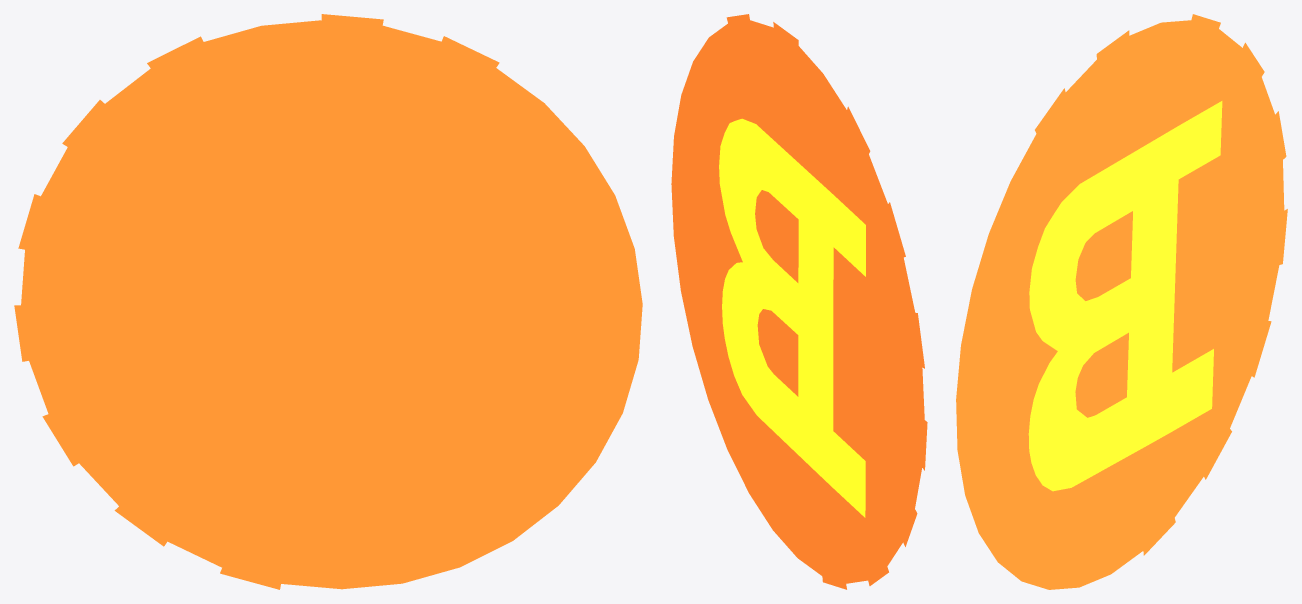
The model's file is star.glb.
The picture shows the model from 3 angles, left to right: view 1: azimuth 30°, elevation 25°; view 2: azimuth 150°, elevation 25°; view 3: azimuth 270°, elevation 25°; orthographic projection. The views are drawn at different scales.
Visible parts, largest first — view 1: Cylinder; view 2: Cylinder, Text.004; view 3: Cylinder, Text.004.
Boxes of the visible parts, x1,y1,x2,y2 form: Cylinder: (14, 14, 642, 589); Cylinder: (671, 14, 927, 589); Text.004: (719, 118, 865, 517); Cylinder: (956, 14, 1287, 589); Text.004: (1028, 101, 1222, 491).
Bounding box in the file's own units: 471 × 570 × 316.
